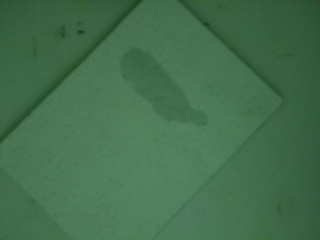Water_detected: (127, 51, 192, 116)
